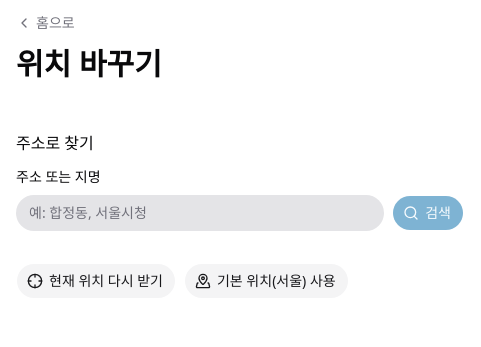
LocationScreen: 주소 검색 › 결과가 없으면 안내 문구를 보여 준다
Type "zzzz" into the field labelled "주소 또는 지명".
click(200, 212); type("zzzz")  # box [16,194,384,230]
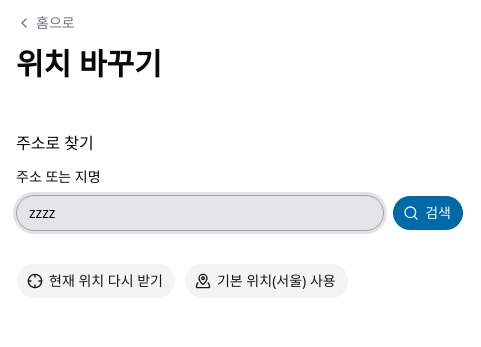
Click the button "검색".
click(428, 212)  # box [392,194,464,230]
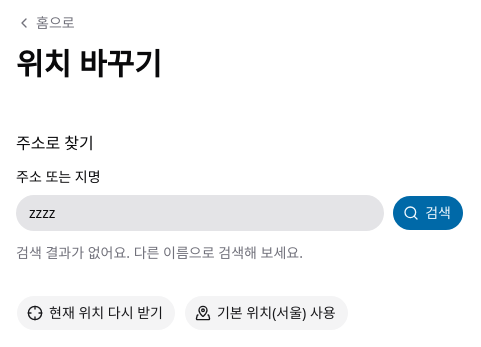
Expected: the text "검색 결과가 없어요. 다른 이름으로 검색해 보세요." is shown, [16,242,303,262]
